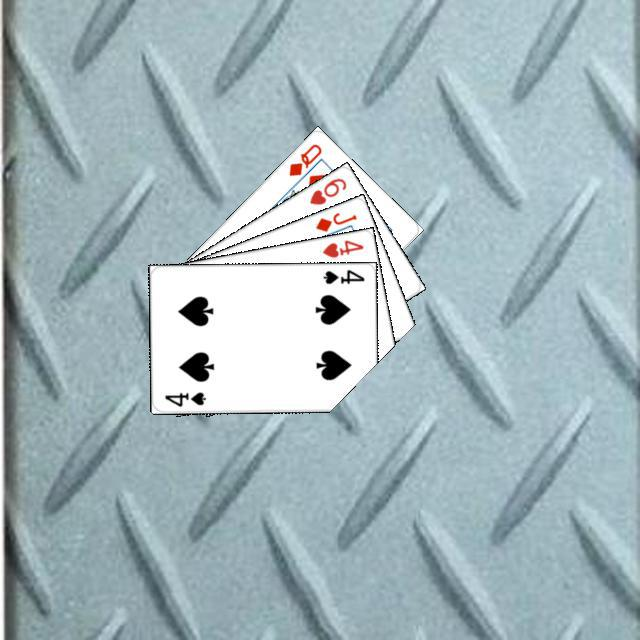4h: (317, 235, 365, 259)
4s: (318, 264, 366, 286), (160, 387, 207, 408)
6h: (304, 173, 348, 207)
Jd: (310, 208, 359, 234)
Qd: (284, 139, 323, 178)
